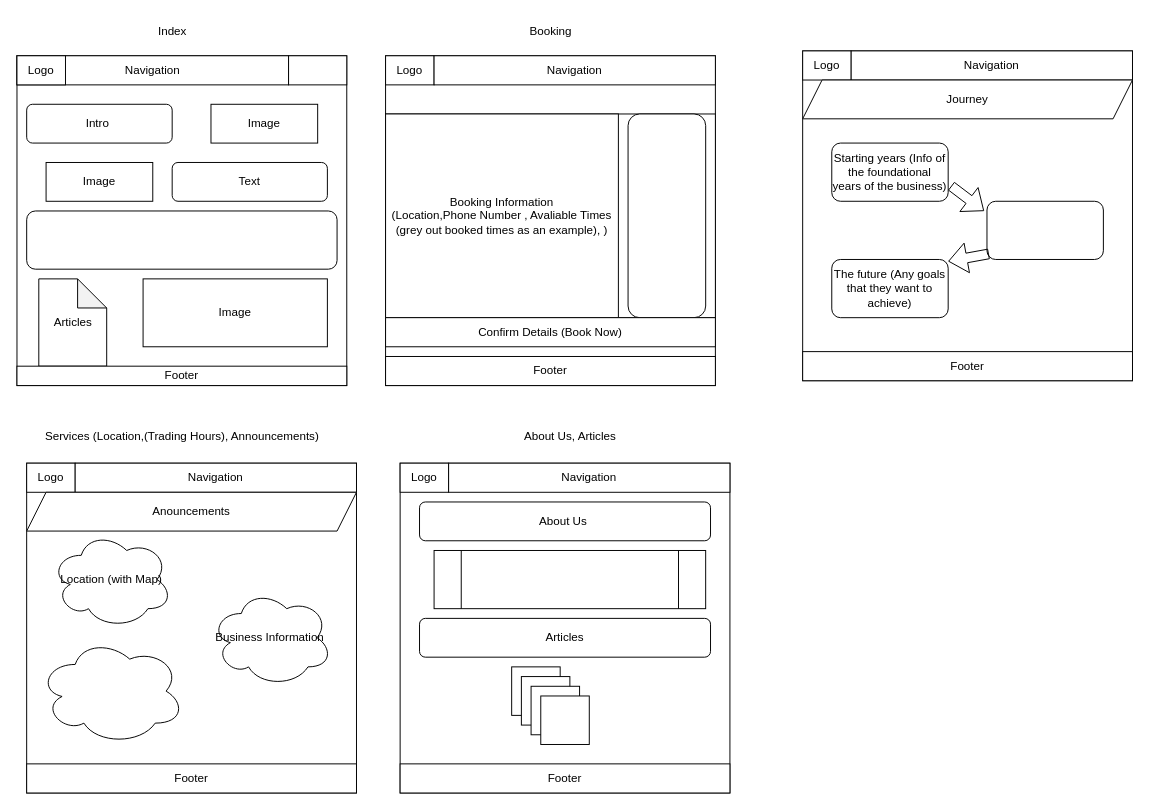
The diagram is 1149 pixels wide and 810 high, and some of its shapes have lost their labels. The box of each missing label's shape, as (x1, y1, x2, y2) in pixels:
About Us information: (433, 550, 706, 609)
Book a check-up: (288, 55, 347, 85)
Meet our staff: (26, 210, 337, 269)
Middle Years (What they have done to get to this point): (986, 200, 1103, 259)
Patient Information: (627, 113, 706, 318)
